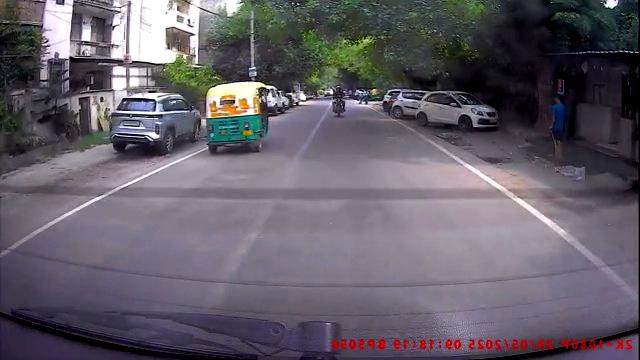motorcycle_with_helmet: (331, 84, 347, 116)
